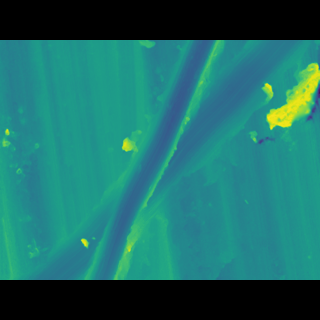Loch: (18, 70, 314, 250), (86, 70, 214, 250)
